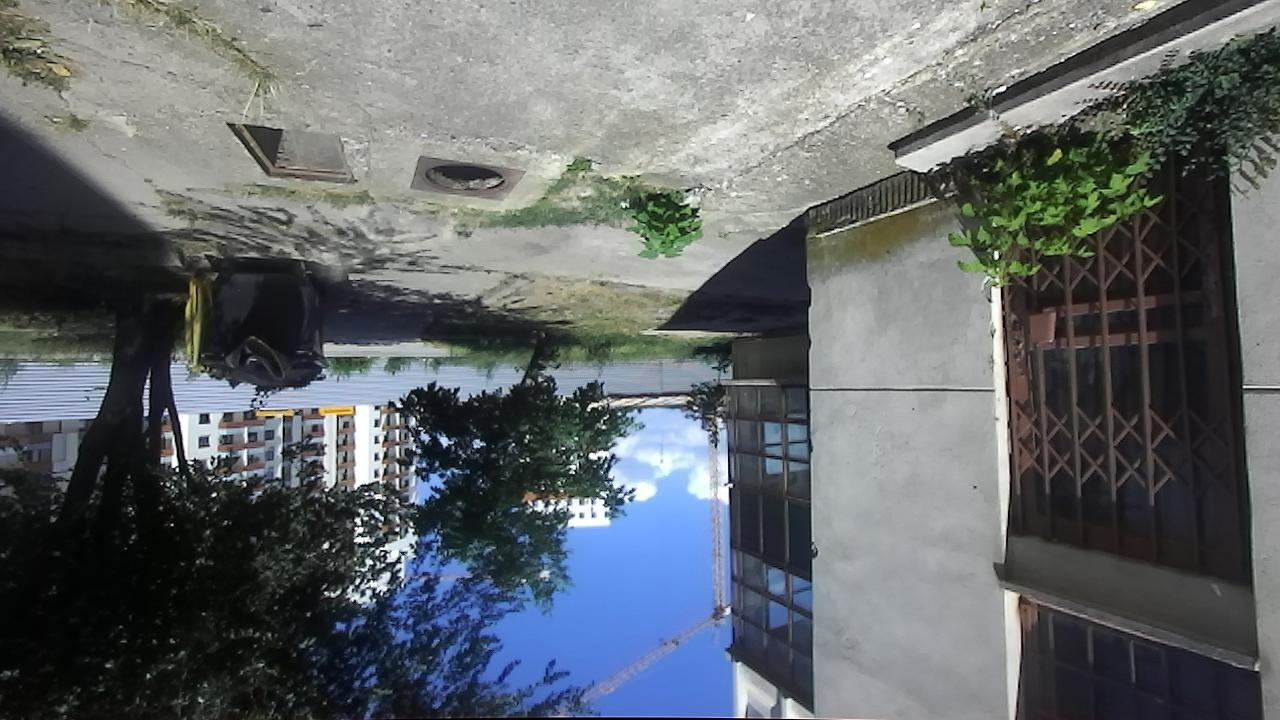drain: (222, 119, 359, 187), (418, 160, 513, 194)
